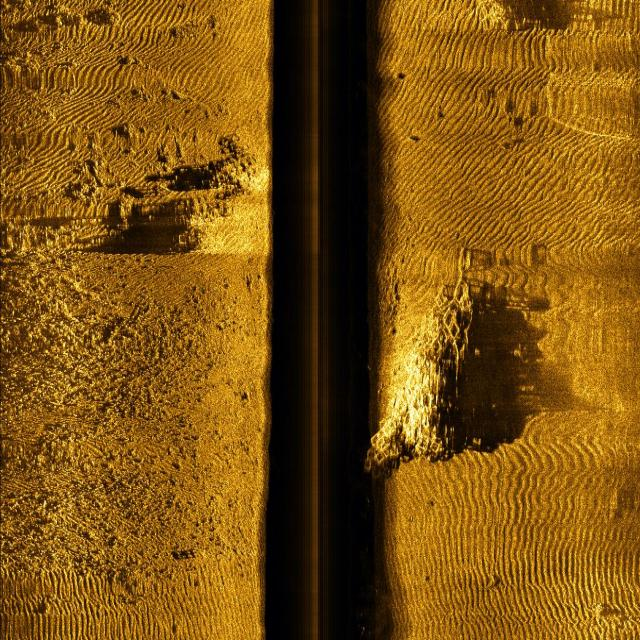artificial reef: (356, 265, 496, 480)
